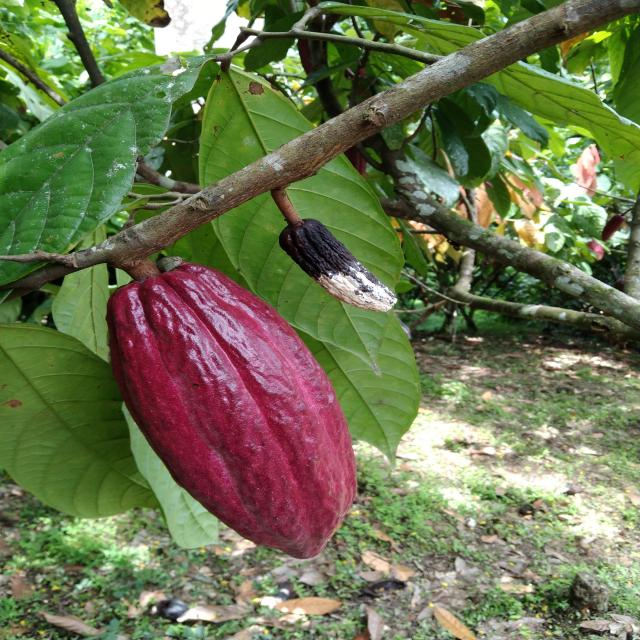Monilia: (283, 222, 397, 314)
Sana: (98, 265, 356, 548)
